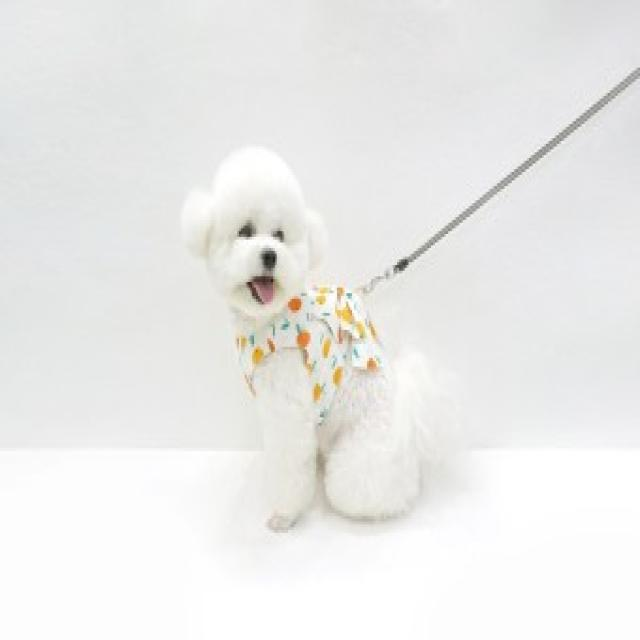cloth: (238, 286, 386, 421)
